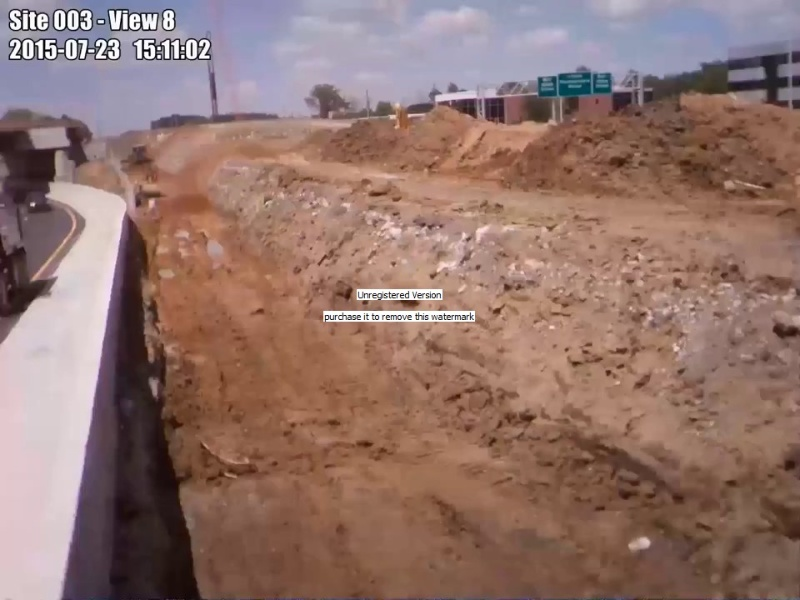bulldozer: (116, 141, 160, 177)
